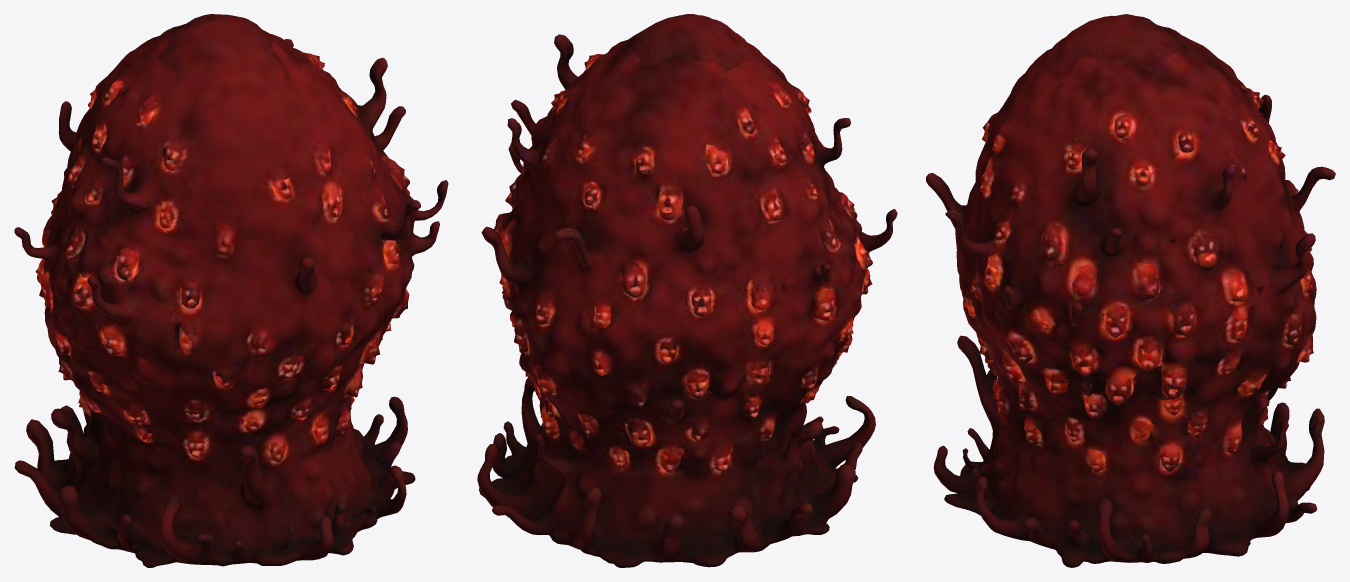
File: MZ4250 - Elder Oblex.glb
The picture shows the model from 3 angles, left to right: view 1: azimuth 30°, elevation 25°; view 2: azimuth 150°, elevation 25°; view 3: azimuth 270°, elevation 25°; orthographic projection. The views are drawn at different scales.
Visible parts, largest first — view 1: Base Organic Sphere.001; view 2: Base Organic Sphere.001; view 3: Base Organic Sphere.001.
Boxes of the visible parts, bbox=[...] form: Base Organic Sphere.001: bbox=[14, 14, 448, 567]; Base Organic Sphere.001: bbox=[477, 14, 897, 567]; Base Organic Sphere.001: bbox=[926, 14, 1335, 567].
Size of the model in its own units: 2.01 by 2.43 by 1.92.
Materials: 1 (1 with a texture image).
